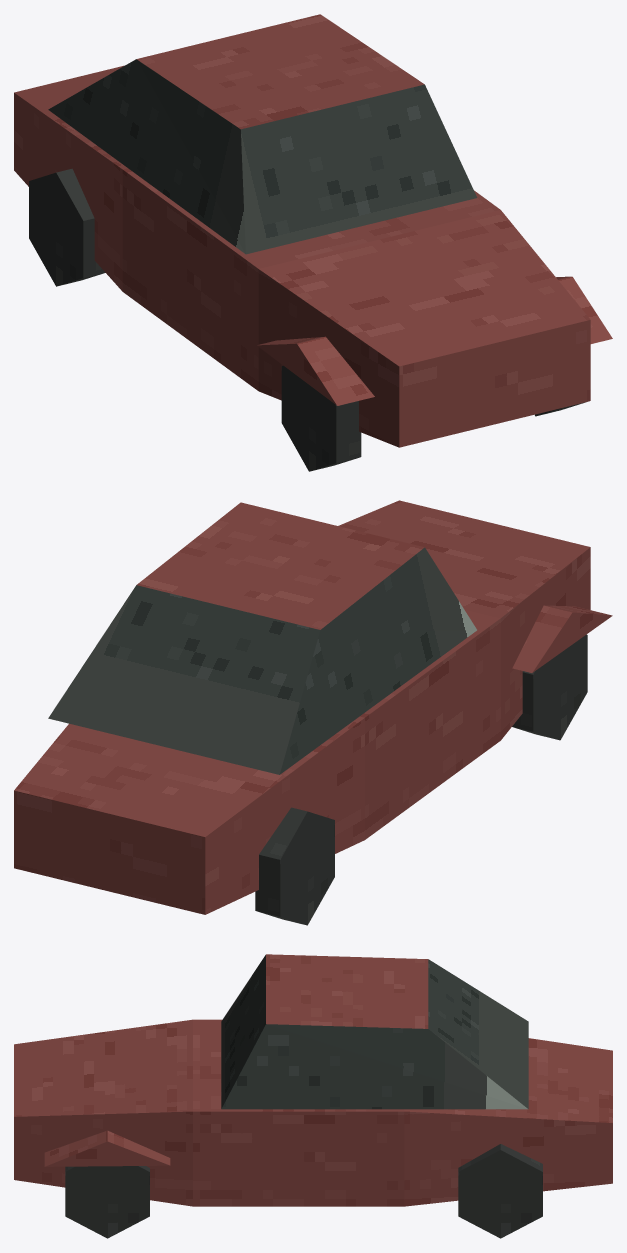
File: fenmere-1938-far.glb
3 views of the same model, one above another, from view 1: azimuth 30°, elevation 25°; view 2: azimuth 150°, elevation 25°; view 3: azimuth 270°, elevation 25° (orthographic). The views are drawn at different scales.
Visible parts, largest first — view 1: body, Distance tyre.003, Distance tyre.001; view 2: body, Distance tyre.003, Distance tyre.001; view 3: body, Distance tyre.002, Distance tyre.
Part boxes in pixels (x1,y1,x2,y2): body: (14,14,612,447); Distance tyre.003: (29,168,105,286); Distance tyre.001: (281,365,361,471); body: (14,500,612,914); Distance tyre.003: (255,807,334,925); Distance tyre.001: (512,634,587,740); body: (14,954,612,1206); Distance tyre.002: (458,1144,542,1238); Distance tyre: (65,1166,149,1238).
Bounding box in the file's own units: 1.85 × 1.66 × 4.48.
2 materials, 2 textured.
